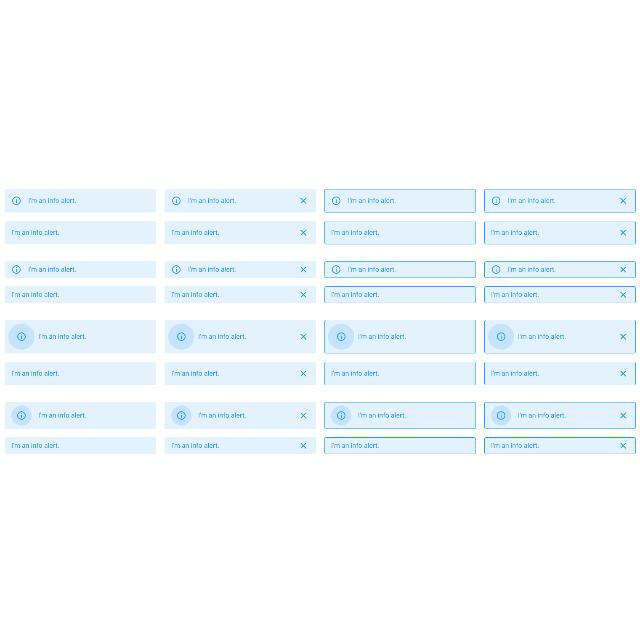QLabel: (330, 440, 380, 450), (490, 227, 540, 236), (198, 332, 246, 341), (10, 290, 60, 298), (10, 369, 60, 377), (170, 290, 220, 298), (347, 196, 397, 204), (330, 228, 380, 236), (357, 411, 407, 419), (490, 290, 540, 298), (348, 265, 397, 273), (358, 332, 407, 340), (28, 196, 76, 204), (11, 228, 59, 236), (38, 332, 86, 340), (38, 411, 86, 419), (188, 196, 236, 204), (171, 442, 219, 450), (331, 290, 379, 298), (507, 195, 555, 203), (518, 332, 566, 340), (170, 369, 220, 376), (330, 369, 380, 376), (490, 369, 540, 376), (172, 228, 220, 235), (11, 442, 61, 448), (490, 442, 540, 448), (28, 266, 76, 272), (188, 266, 236, 272), (198, 412, 246, 418), (508, 266, 556, 272), (518, 412, 566, 418)
VAlert: (164, 319, 316, 353), (324, 319, 476, 353), (484, 319, 636, 353), (5, 319, 156, 353), (4, 401, 156, 429), (324, 401, 476, 429), (164, 402, 316, 428), (484, 402, 636, 428), (4, 188, 156, 212), (164, 188, 316, 212), (164, 220, 316, 244), (324, 188, 476, 212), (324, 220, 476, 244), (324, 361, 476, 385), (484, 188, 636, 212), (484, 220, 636, 244), (484, 361, 636, 385), (5, 220, 157, 243), (164, 362, 316, 384), (5, 362, 156, 384), (4, 260, 156, 278), (164, 260, 316, 278), (324, 260, 476, 278), (484, 260, 636, 278), (4, 438, 156, 454), (164, 286, 316, 302), (164, 438, 316, 454), (324, 286, 476, 302), (324, 438, 476, 454), (484, 286, 636, 302), (484, 438, 636, 454), (5, 286, 156, 302), (496, 412, 506, 421), (172, 264, 180, 274), (331, 196, 341, 204), (491, 264, 499, 274), (492, 194, 500, 203), (337, 332, 345, 341), (337, 412, 345, 421), (177, 332, 186, 340), (332, 265, 341, 273), (12, 196, 20, 204), (12, 265, 20, 273), (18, 332, 26, 340), (18, 411, 26, 419), (497, 332, 505, 340), (177, 411, 185, 419), (172, 196, 180, 204), (620, 442, 626, 448)
VIcon: (619, 227, 627, 235), (618, 412, 628, 418), (620, 196, 626, 204), (300, 290, 306, 298), (620, 369, 626, 377), (620, 290, 626, 298), (300, 412, 308, 418), (300, 197, 306, 203), (620, 266, 626, 272), (620, 333, 626, 339), (301, 229, 307, 235), (300, 266, 306, 272), (300, 333, 306, 339), (300, 370, 306, 376), (301, 442, 307, 448)
